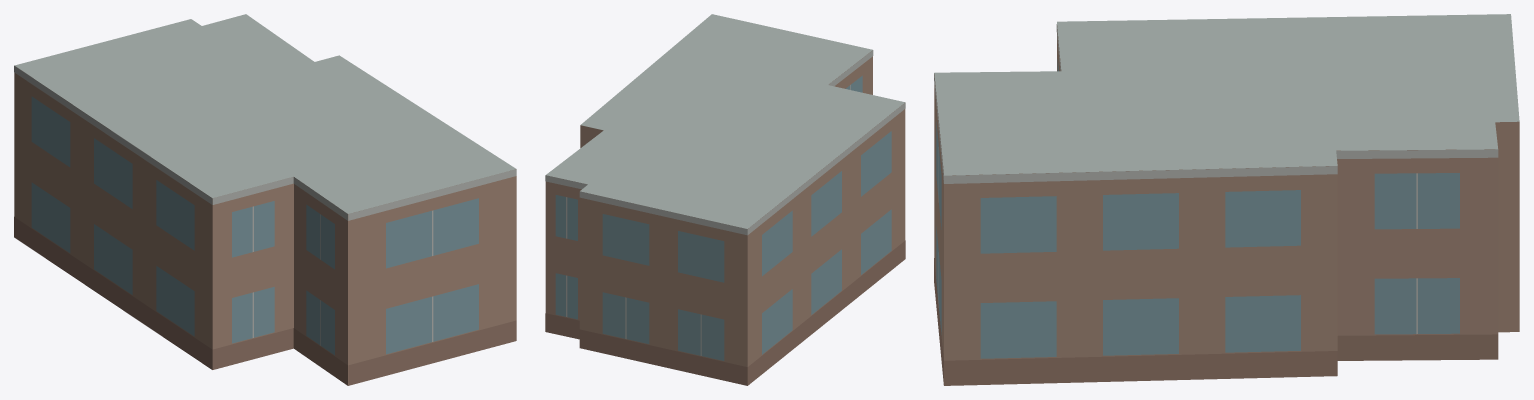
The model's file is survey-upis-32849228.glb.
3 renders of one model, left to right at view 1: azimuth 30°, elevation 25°; view 2: azimuth 150°, elevation 25°; view 3: azimuth 270°, elevation 25°, orthographic. The views are drawn at different scales.
Visible parts, largest first — view 1: survey-upis-32849228.tmp; view 2: survey-upis-32849228.tmp; view 3: survey-upis-32849228.tmp.
Boxes of the visible parts, left/top/right/bottom form: survey-upis-32849228.tmp: left=14, top=14, right=516, bottom=385; survey-upis-32849228.tmp: left=545, top=14, right=905, bottom=385; survey-upis-32849228.tmp: left=934, top=14, right=1519, bottom=385.
Bounding box in the file's own units: 10.07 × 6.1 × 15.41.
